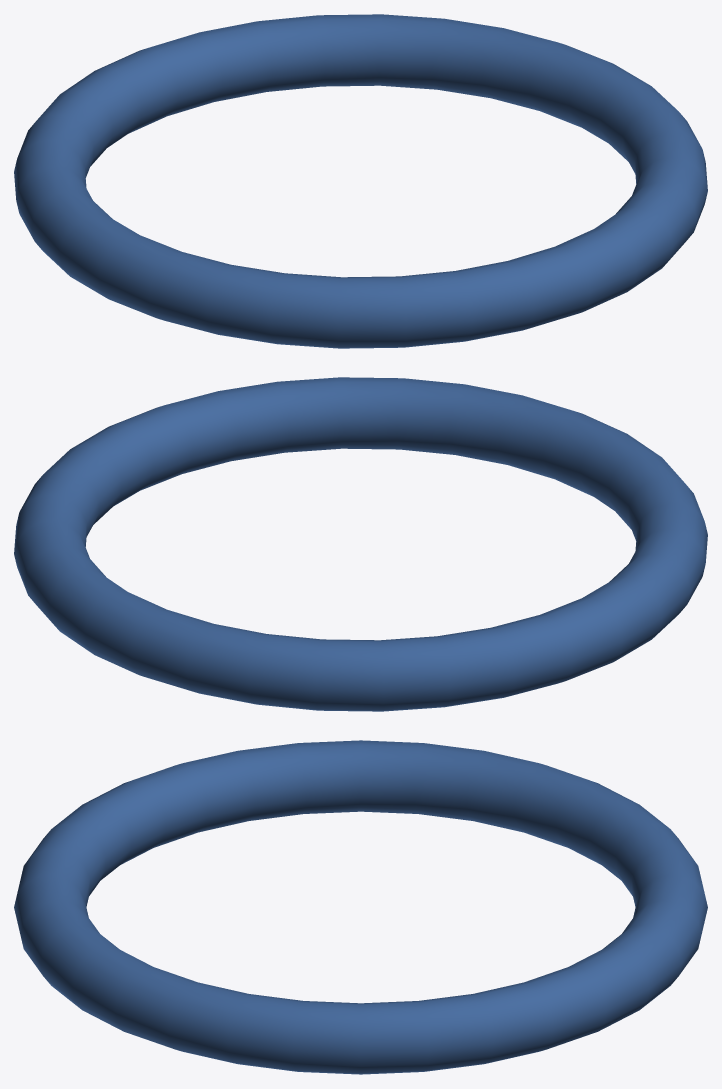
3 renders of one model, top to bottom at view 1: azimuth 30°, elevation 25°; view 2: azimuth 150°, elevation 25°; view 3: azimuth 270°, elevation 25°, orthographic.
Parts seen in each view (by area): view 1: Torus001; view 2: Torus001; view 3: Torus001.
Boxes of the visible parts, x1,y1,x2,y2 form: Torus001: (14,14,707,348); Torus001: (14,377,707,711); Torus001: (14,740,707,1074).
Size of the model in its own units: 70.03 by 7.19 by 70.03.
